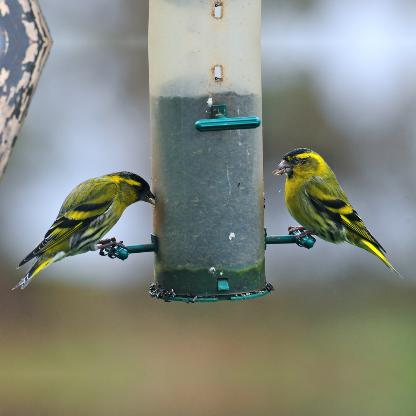Bird: (7, 169, 154, 290), (273, 152, 395, 268)
